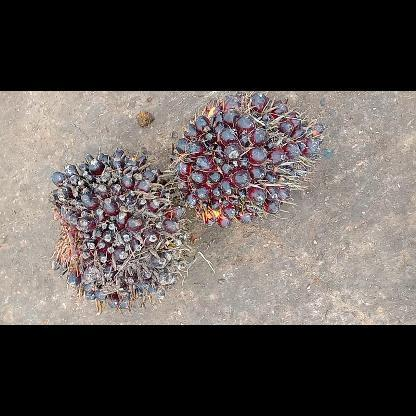TBS mentah: (42, 149, 196, 305), (173, 92, 323, 224)
